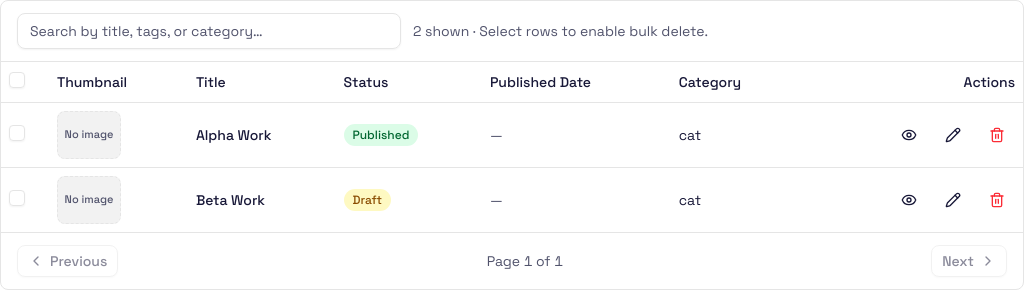
Test: admin bulk selection tables › renders a distinct admin works empty-search row with table semantics
Type "no-result" into the field named "Search work titles". click: (209,31)
box: [17, 13, 401, 49]
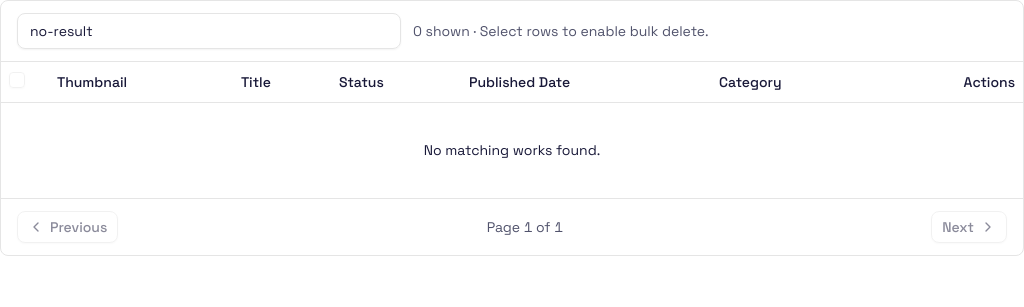
Expected: the table is shown, [1, 62, 1023, 198]
Now the row with test id "admin-work-row" is gone
